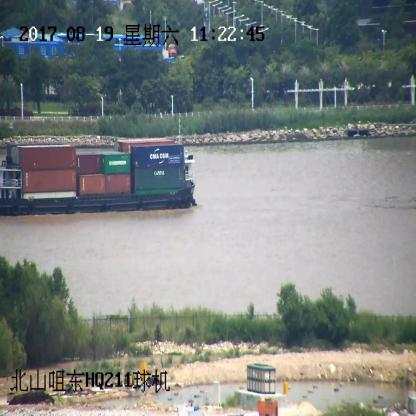Container Ship: (0, 119, 197, 216)
